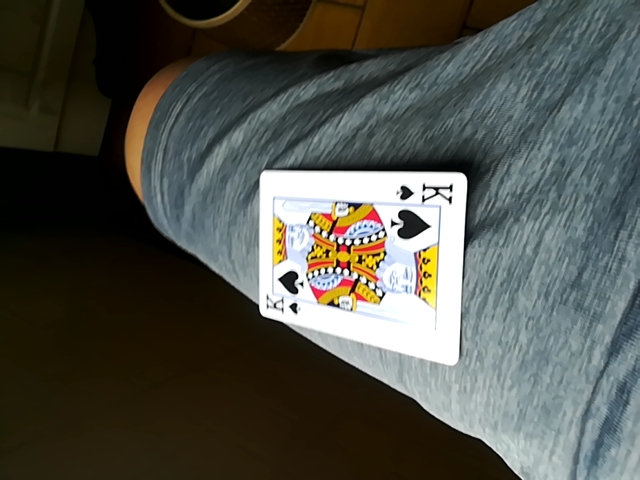ht k: (255, 167, 468, 366)
